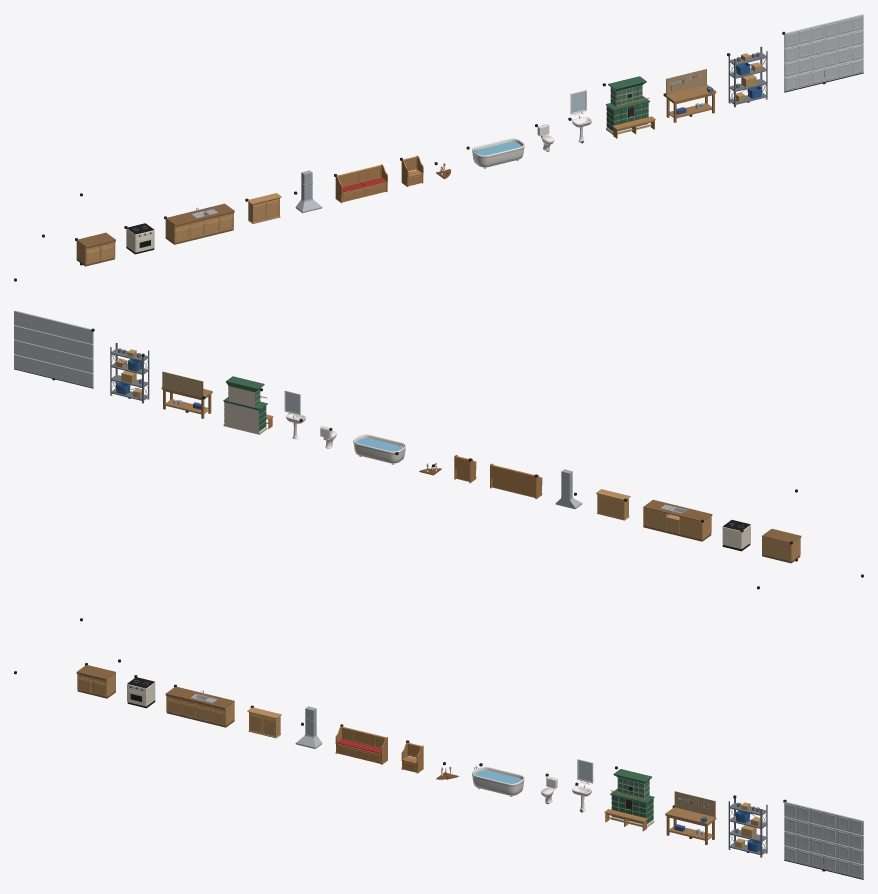
File: ZDCFixtureArt.fbx
The picture shows the model from 3 angles, top to bottom: view 1: azimuth 30°, elevation 25°; view 2: azimuth 150°, elevation 25°; view 3: azimuth 330°, elevation 25°; orthographic projection.
Visible parts, largest first — view 1: garage_door_door, corner_bench_pine, kachelofen_tile, sink_cabinet, shelves_metal, workbench_wood, tub_porcelain, cabinets_cabinet, sink_worktop, counter_cabinet, workbench_board, bench_pine (+1 smaller); view 2: garage_door_door, kachelofen_grout, sink_cabinet, corner_bench_pine, shelves_metal, tub_porcelain, cabinets_cabinet, sink_worktop, workbench_wood, counter_cabinet, kachelofen_tile, workbench_board (+2 smaller); view 3: garage_door_door, corner_bench_pine, kachelofen_tile, sink_cabinet, shelves_metal, workbench_wood, tub_porcelain, cabinets_cabinet, sink_worktop, counter_cabinet, workbench_board, bench_pine (+1 smaller).
Boxes of the visible parts, <box> form: garage_door_door: <box>784,14,863,91</box>; corner_bench_pine: <box>335,164,387,203</box>; kachelofen_tile: <box>605,76,649,130</box>; sink_cabinet: <box>165,213,233,242</box>; shelves_metal: <box>728,46,767,107</box>; workbench_wood: <box>665,69,716,122</box>; tub_porcelain: <box>472,138,524,167</box>; cabinets_cabinet: <box>248,193,281,223</box>; sink_worktop: <box>165,203,234,244</box>; counter_cabinet: <box>76,241,115,264</box>; workbench_board: <box>666,69,706,94</box>; bench_pine: <box>401,155,423,186</box>; garage_door_door: <box>14,310,93,387</box>; kachelofen_grout: <box>223,386,267,434</box>; sink_cabinet: <box>643,508,711,539</box>; corner_bench_pine: <box>490,463,542,499</box>; shelves_metal: <box>110,343,149,403</box>; tub_porcelain: <box>353,434,405,463</box>; cabinets_cabinet: <box>596,489,630,520</box>; sink_worktop: <box>643,499,712,541</box>; workbench_wood: <box>161,371,212,418</box>; counter_cabinet: <box>762,536,800,561</box>; kachelofen_tile: <box>223,376,267,431</box>; workbench_board: <box>162,372,202,396</box>; garage_door_door: <box>784,802,863,878</box>; corner_bench_pine: <box>335,726,387,764</box>; kachelofen_tile: <box>610,769,654,823</box>; sink_cabinet: <box>166,695,234,725</box>; shelves_metal: <box>728,797,767,857</box>; workbench_wood: <box>665,791,716,844</box>; tub_porcelain: <box>472,766,524,795</box>; cabinets_cabinet: <box>247,707,281,738</box>; sink_worktop: <box>165,686,234,727</box>; counter_cabinet: <box>77,673,115,696</box>; workbench_board: <box>675,791,714,816</box>; bench_pine: <box>401,742,423,773</box>.
Size of the model in its own units: 129 by 10.3 by 11.81.
